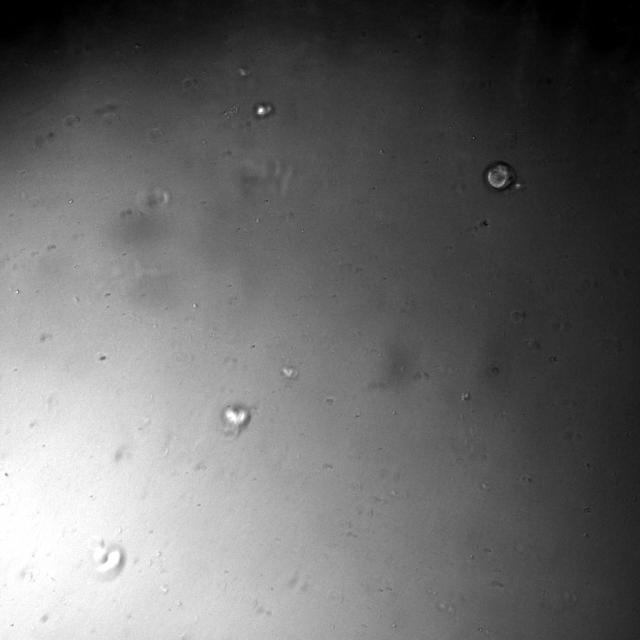organoid: (88, 537, 126, 581), (484, 161, 526, 192), (221, 404, 251, 438), (252, 101, 275, 120)
